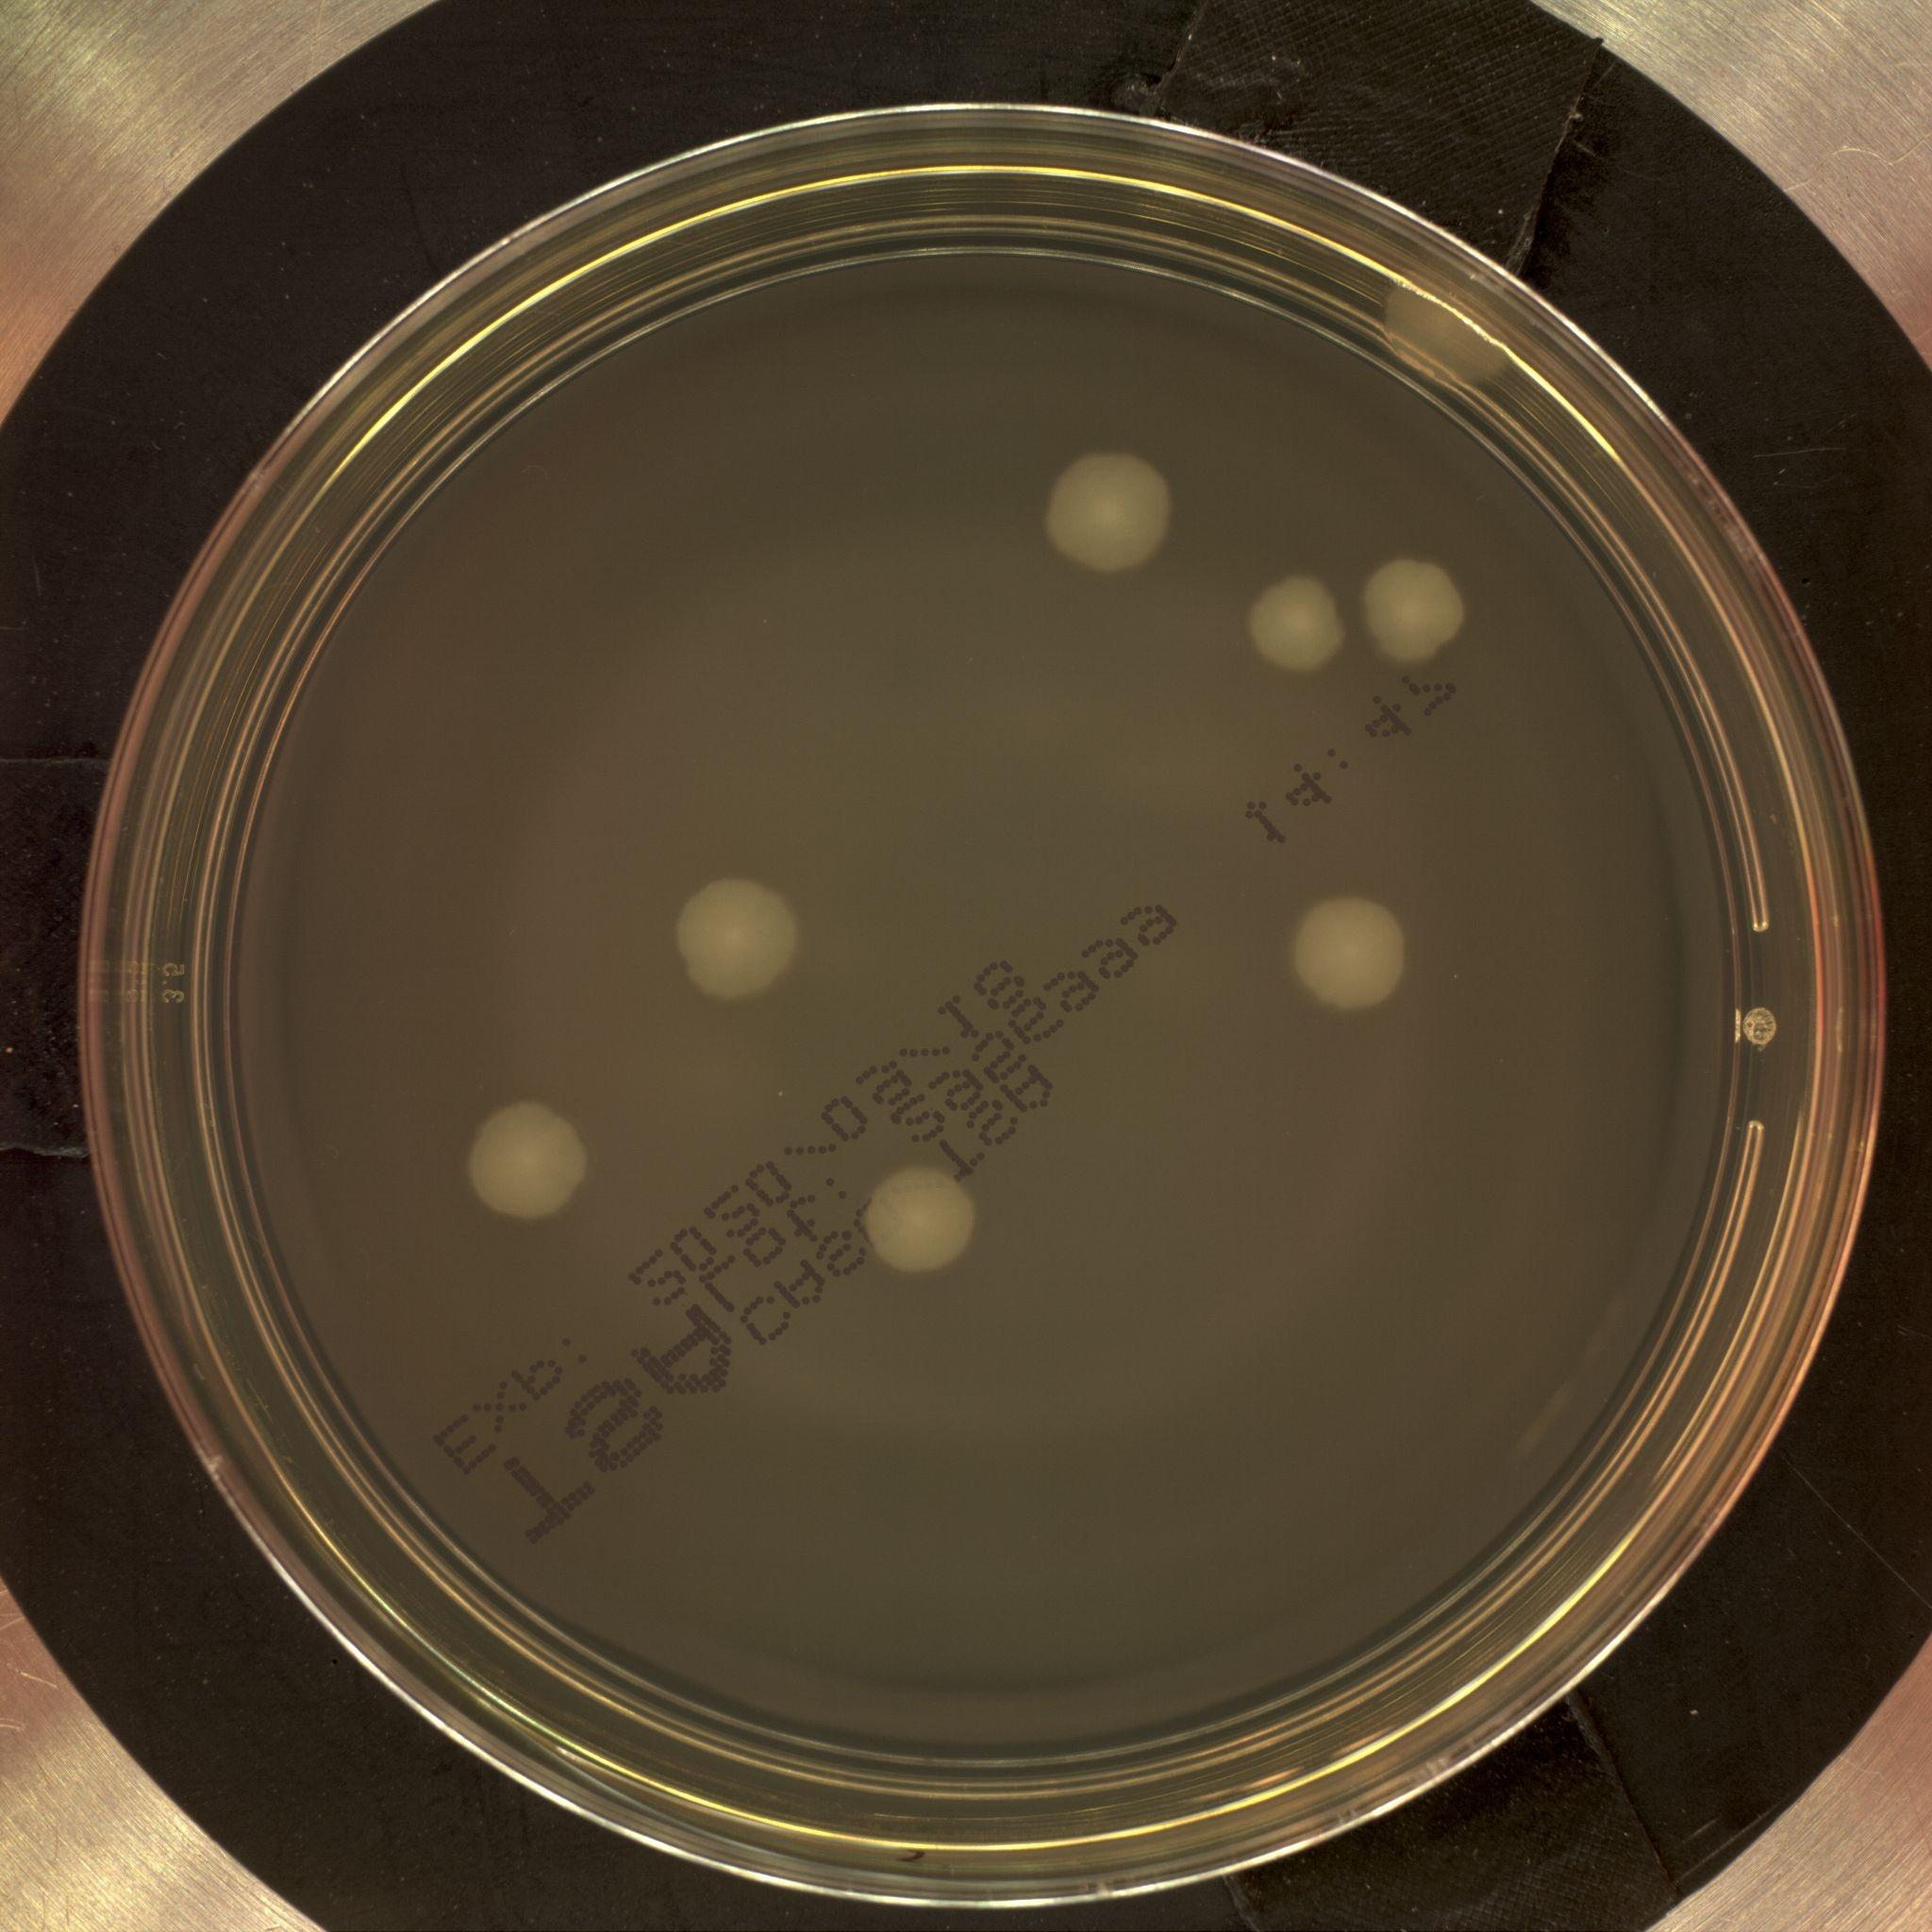e. coli: (1382, 266, 1520, 394), (458, 1096, 595, 1222), (1045, 448, 1173, 577), (1291, 889, 1413, 1021), (675, 877, 795, 1000), (1361, 555, 1473, 665), (864, 1162, 970, 1272), (1246, 571, 1344, 675)
